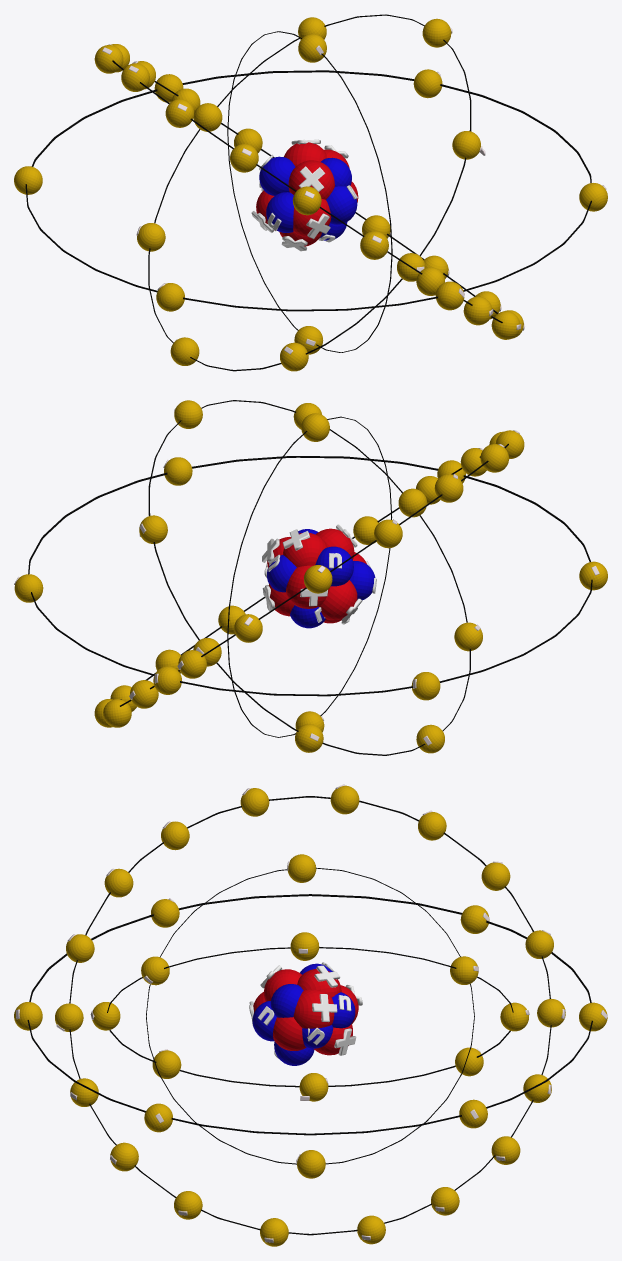
3 renders of one model, top to bottom at view 1: azimuth 30°, elevation 25°; view 2: azimuth 150°, elevation 25°; view 3: azimuth 270°, elevation 25°, orthographic.
Parts seen in each view (by area): view 1: Circle.003, Circle.001, Circle, Sphere.015, Sphere.014, Sphere.012, Circle.002, Sphere.018, Sphere.007, Sphere.026, Sphere.013, Sphere.049 (+23 smaller); view 2: Circle.003, Circle.001, Circle, Sphere.011, Sphere.007, Sphere.015, Circle.002, Sphere.005, Sphere.018, Sphere.026, Sphere.027, Sphere.003 (+25 smaller); view 3: Circle.003, Circle.002, Circle.001, Circle, Sphere.030, Sphere, Sphere.024, Sphere.036, Sphere.002, Sphere.035, Sphere.041, Sphere.040 (+30 smaller).
Boxes of the visible parts, x1,y1,x2,y2 form: Circle.003: (25, 70, 591, 311); Circle.001: (148, 14, 471, 371); Circle: (227, 31, 392, 352); Sphere.015: (259, 156, 295, 195); Sphere.014: (288, 160, 334, 199); Sphere.012: (326, 186, 357, 224); Circle.002: (112, 60, 502, 322); Sphere.018: (266, 192, 293, 232); Sphere.007: (284, 142, 326, 166); Sphere.026: (422, 18, 451, 47); Sphere.013: (452, 131, 480, 159); Sphere.049: (413, 69, 442, 98); Circle.003: (28, 456, 592, 696); Circle.001: (148, 400, 470, 755); Circle: (227, 416, 392, 737); Sphere.011: (319, 580, 357, 620); Sphere.007: (283, 533, 327, 567); Sphere.015: (315, 546, 353, 586); Circle.002: (120, 443, 508, 706); Sphere.005: (286, 565, 330, 608); Sphere.018: (349, 561, 375, 600); Sphere.026: (174, 400, 202, 428); Sphere.027: (267, 555, 296, 592); Sphere.003: (301, 413, 329, 441); Circle.003: (27, 894, 592, 1135); Circle.002: (69, 796, 551, 1235); Circle.001: (107, 947, 513, 1087); Circle: (146, 867, 474, 1164); Sphere.030: (293, 989, 334, 1028); Sphere: (273, 1017, 306, 1050); Sphere.024: (270, 984, 303, 1017); Sphere.036: (330, 785, 359, 814); Sphere.002: (297, 1150, 325, 1178); Sphere.035: (481, 862, 510, 890); Sphere.041: (418, 812, 446, 840); Sphere.040: (151, 899, 179, 927).
Bounding box in the file's own units: 99.42 × 62.06 × 104.
